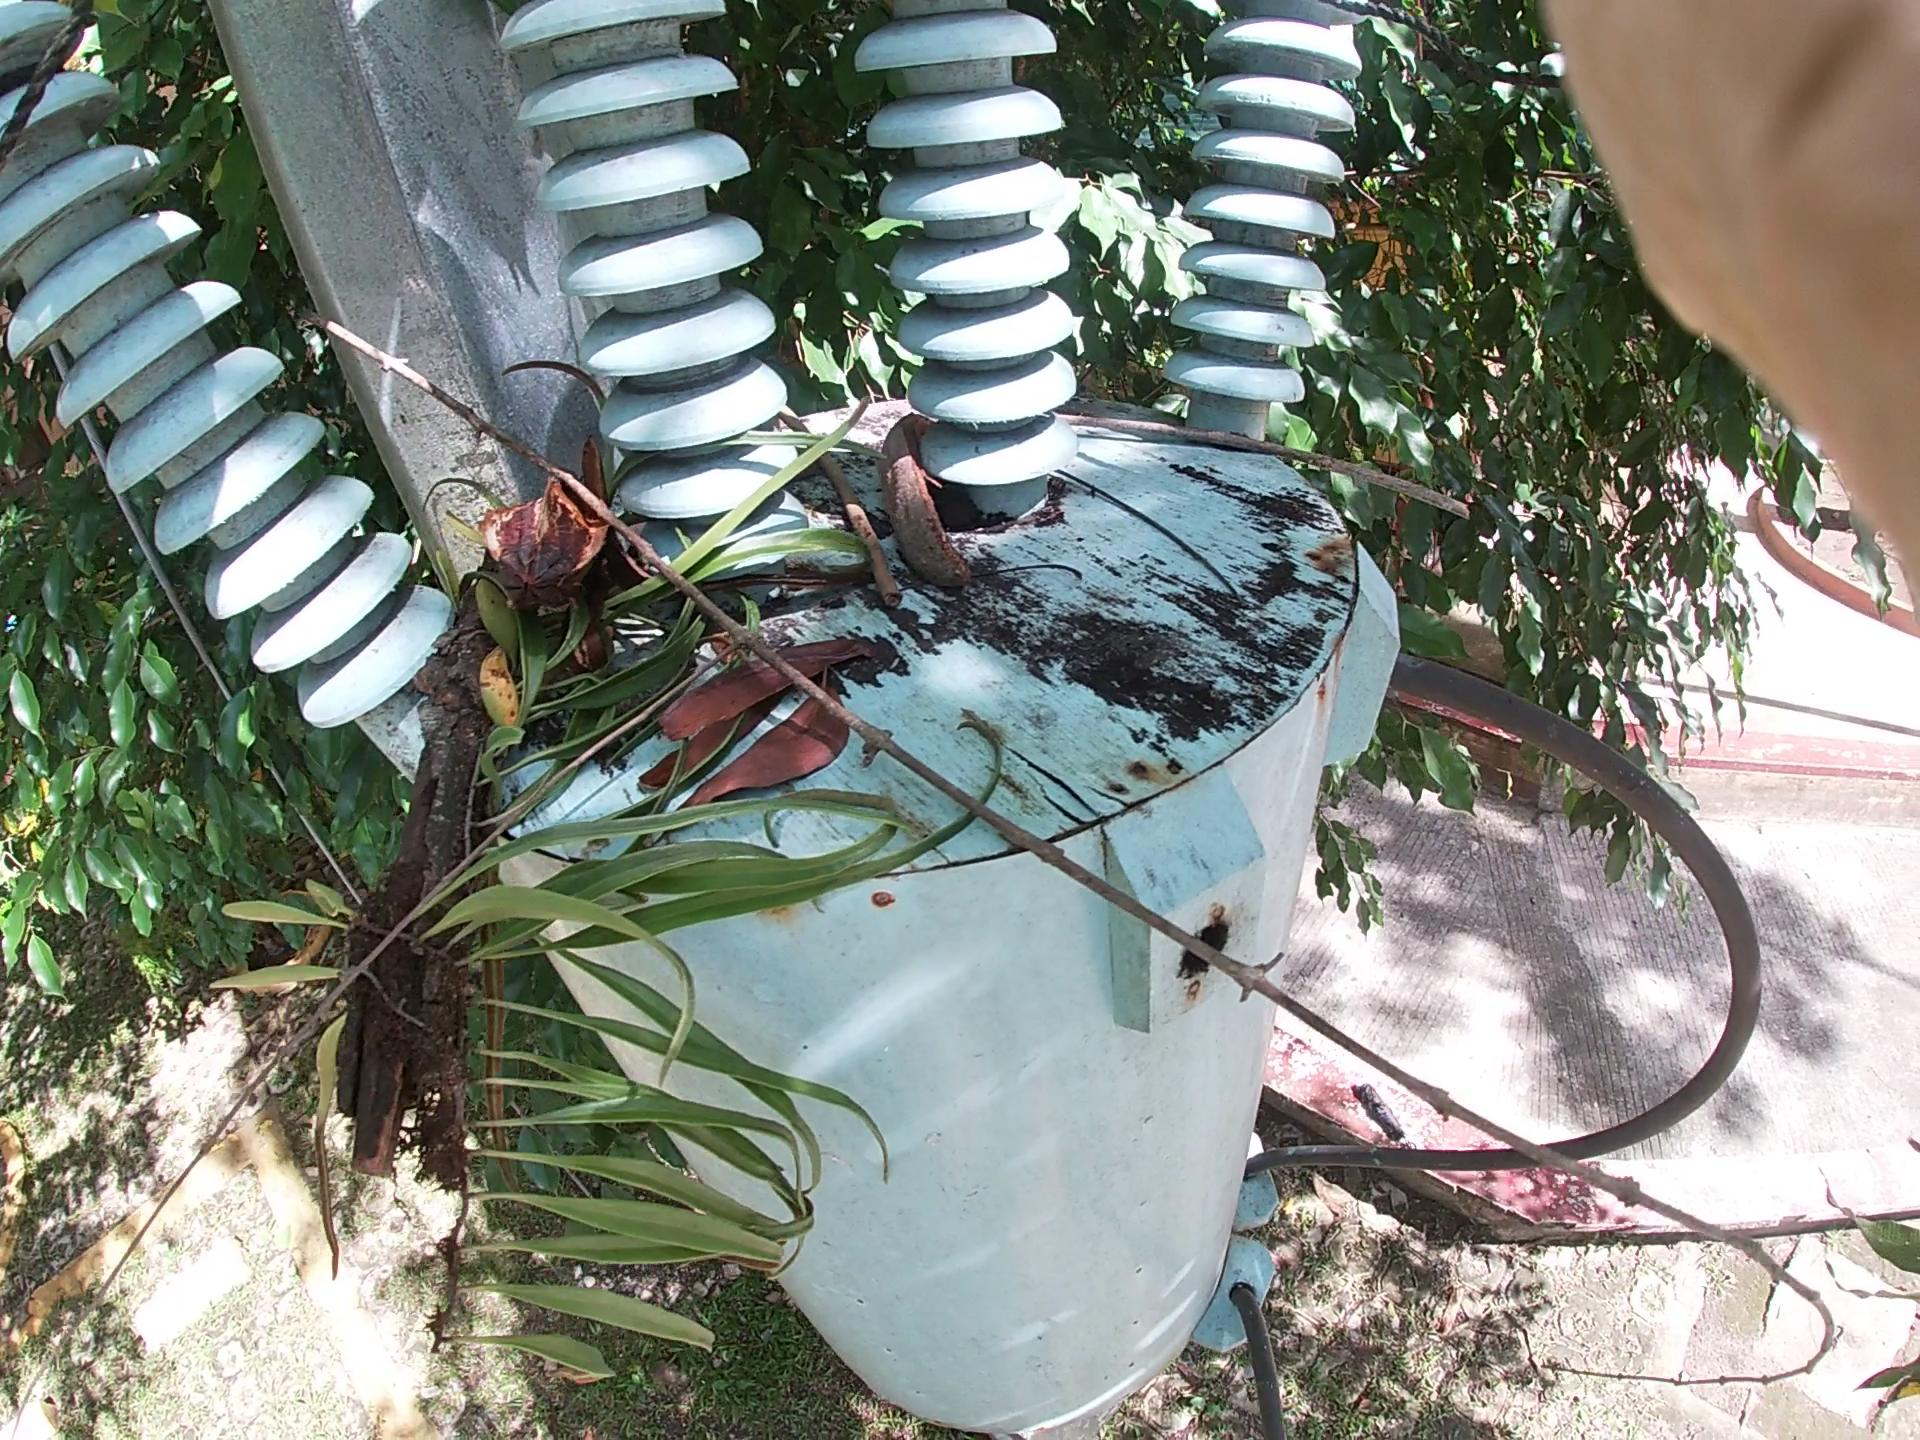branch with leaves: (252, 470, 674, 1317)
leaf: (561, 637, 890, 897)
mahogany fruit: (451, 442, 633, 646), (857, 351, 992, 616)
tree branch: (301, 313, 1521, 1209), (1048, 383, 1621, 535), (765, 334, 909, 693)
